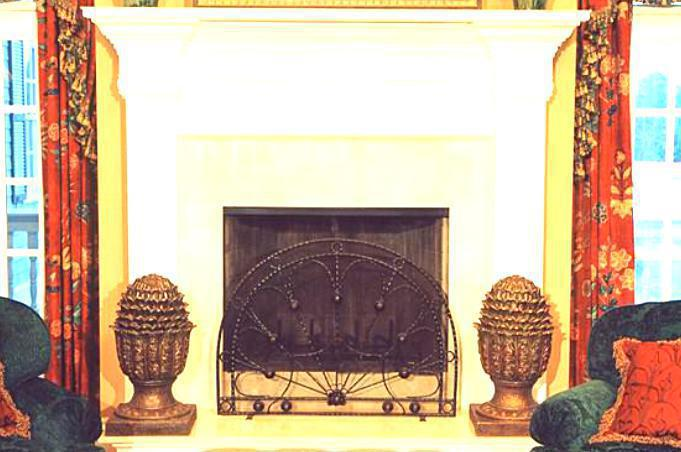Otro Obstaculo: (469, 261, 564, 440), (114, 278, 206, 441)
